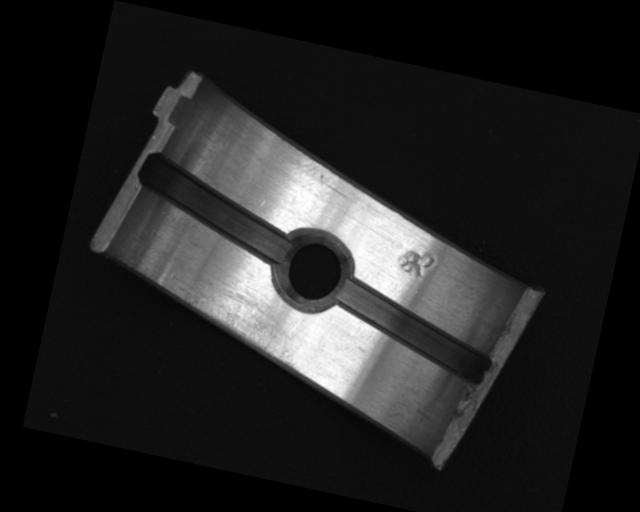bruise: (394, 245, 440, 284)
gap: (125, 149, 308, 268), (328, 277, 503, 385)
hole: (266, 224, 360, 319)
scratch: (162, 281, 320, 376)
